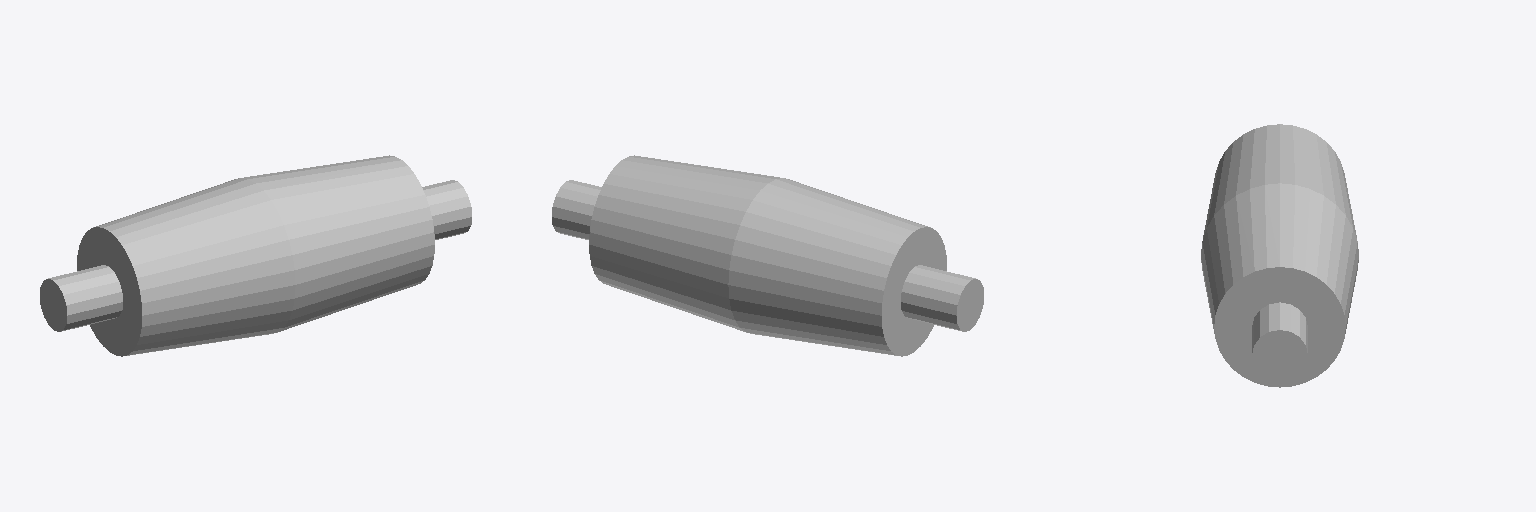
The model's file is roller_visual_low_polycount.obj.
The picture shows the model from 3 angles: view 1: azimuth 30°, elevation 25°; view 2: azimuth 150°, elevation 25°; view 3: azimuth 270°, elevation 25°; orthographic projection.
Visible parts, largest first — view 1: Cylinder.002, Cylinder.001; view 2: Cylinder.002, Cylinder.001; view 3: Cylinder.002, Cylinder.001.
Part boxes in pixels (bbox=[...]): Cylinder.002: bbox=[77, 155, 434, 356]; Cylinder.001: bbox=[40, 180, 471, 331]; Cylinder.002: bbox=[589, 155, 946, 356]; Cylinder.001: bbox=[552, 180, 983, 331]; Cylinder.002: bbox=[1201, 124, 1358, 387]; Cylinder.001: bbox=[1252, 302, 1307, 379].
Bounding box in the file's own units: 0.0771 × 0.0264 × 0.0261.